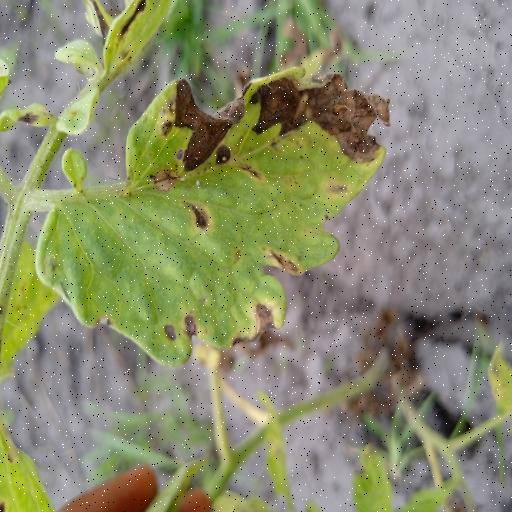Tomato_Brown_Spots: (32, 58, 400, 375)
